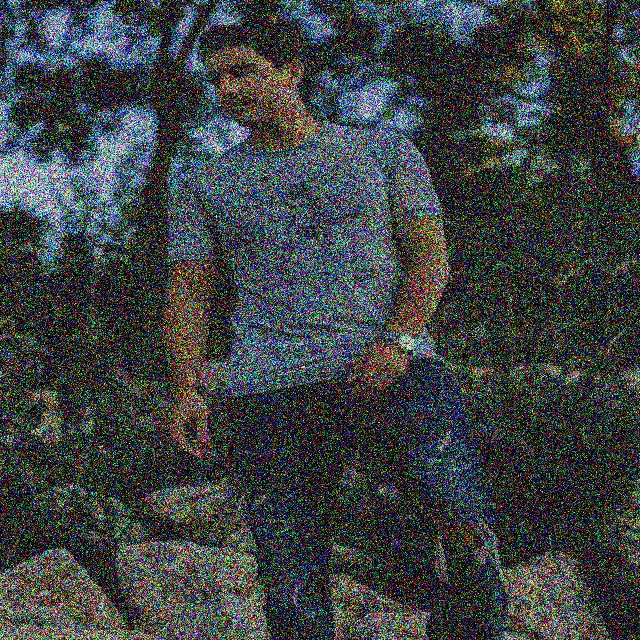ripped_pants: (227, 359, 513, 640)
